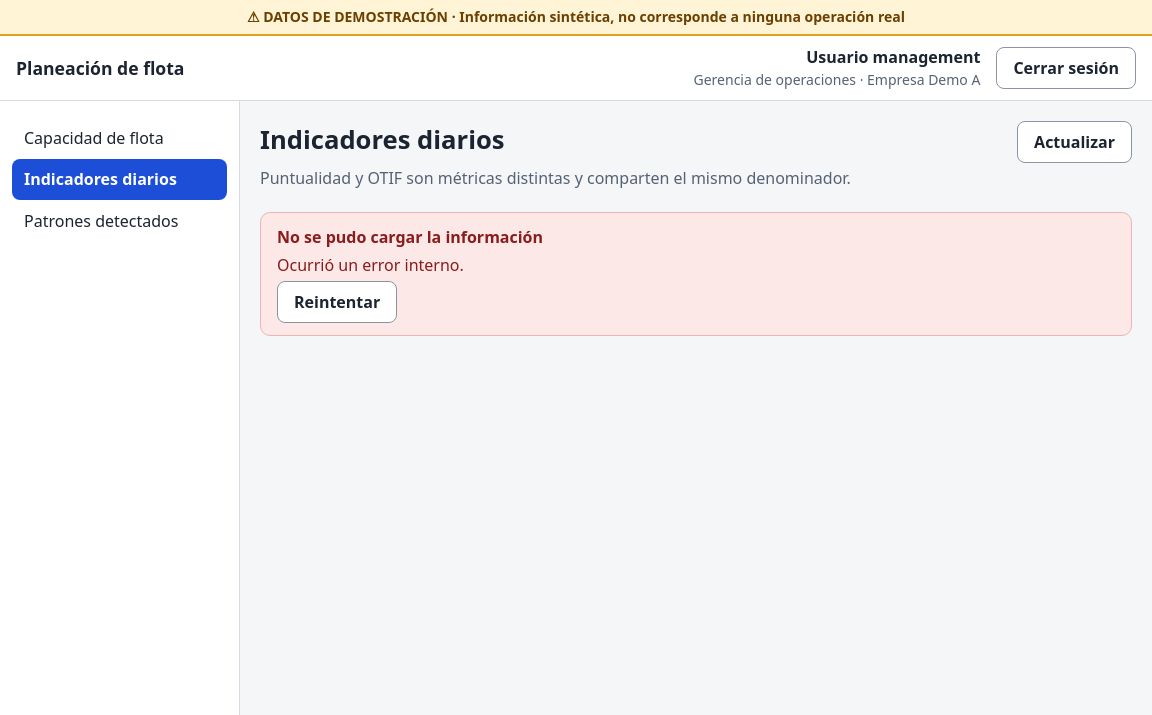
Test case: indicadores diarios › ante un error ofrece reintentar y se recupera
Click the button "Reintentar".
click(337, 302)  # box [277,281,397,323]
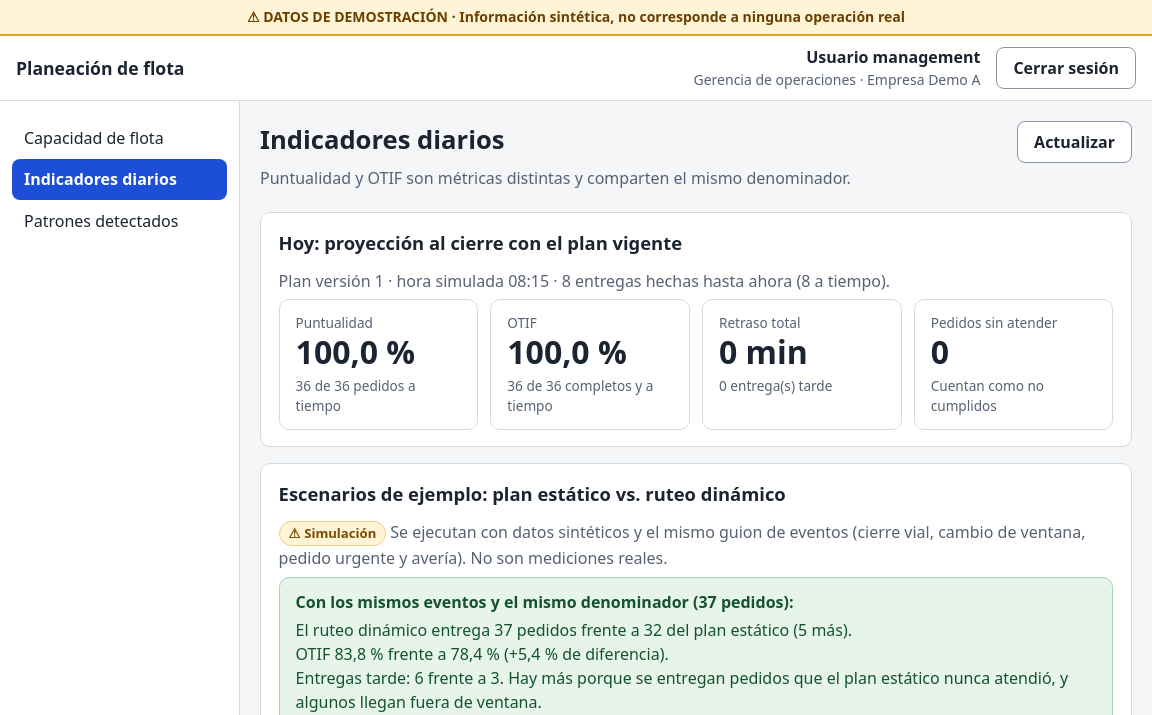
Expected: the heading "Escenarios de ejemplo: plan estático vs. ruteo dinámico" is shown, [279,481,786,506]
